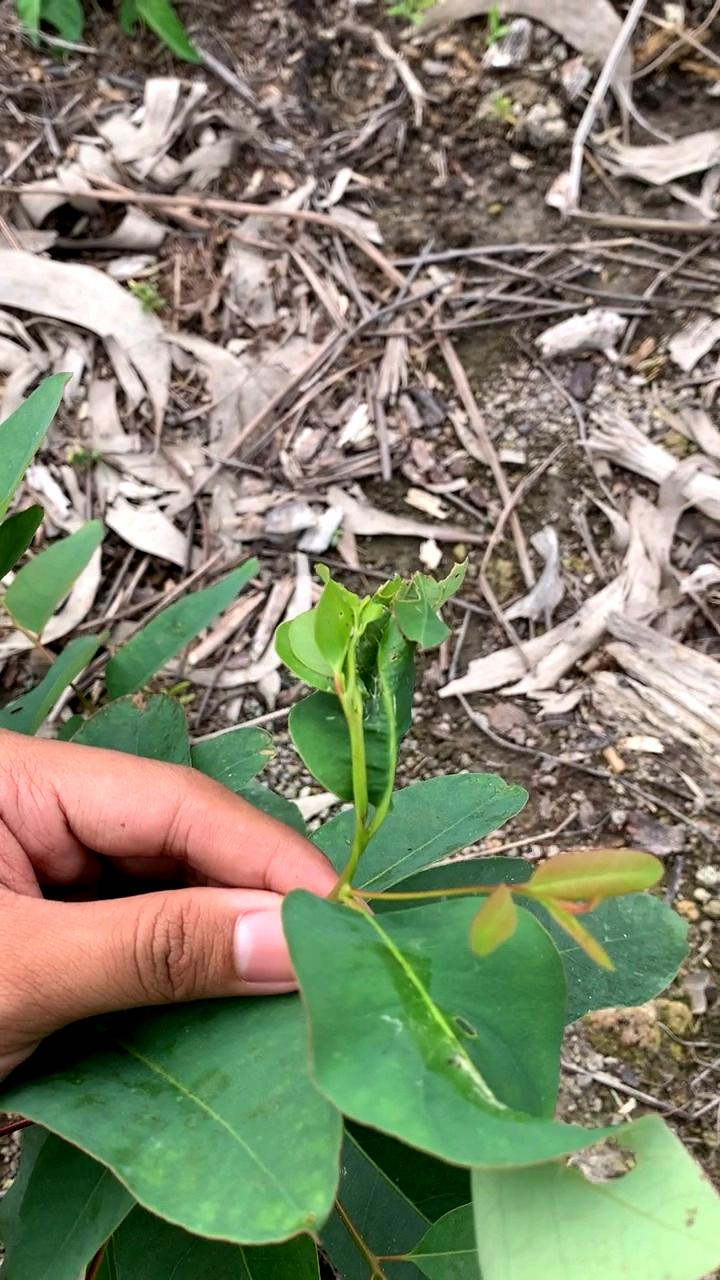Leaf Roller - Leaf: (283, 581, 441, 837)
